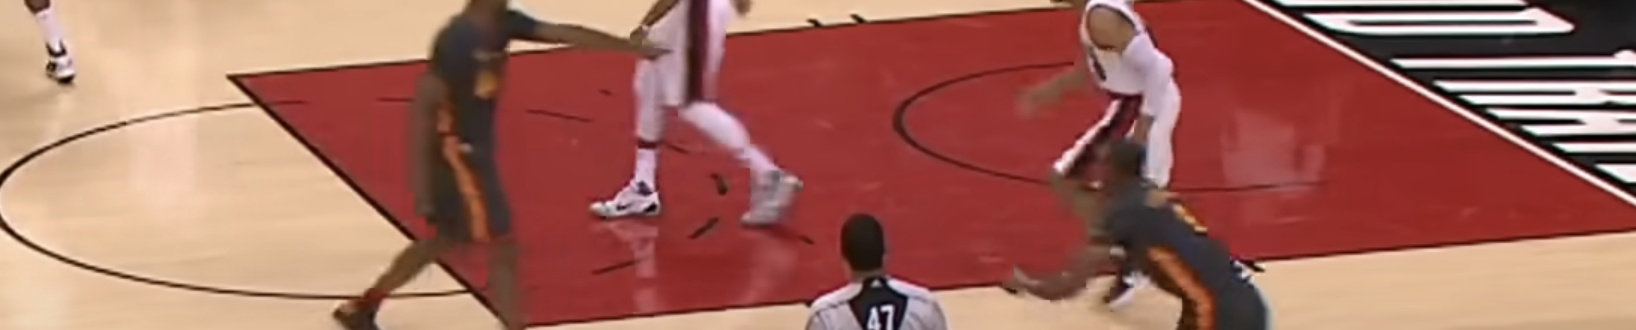endLine: (1255, 1, 1636, 203)
freeThrow: (233, 75, 518, 330)
lane: (519, 230, 1636, 329), (234, 1, 1124, 75)
